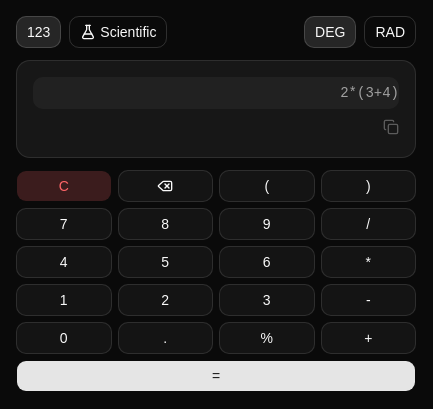
Test case: T12 calculator view › shows an error on invalid input
Type "1/0" into the field named "expression" at (216, 93), box [33,77,399,109]
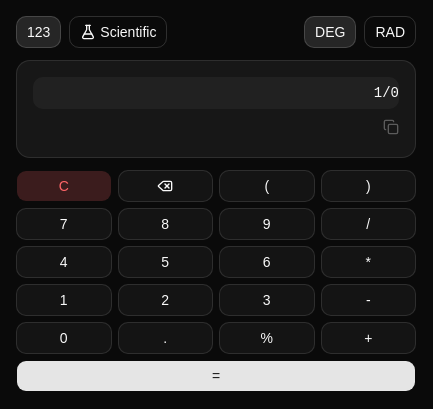
Click the button "=" at (216, 376), box [16,360,416,392]
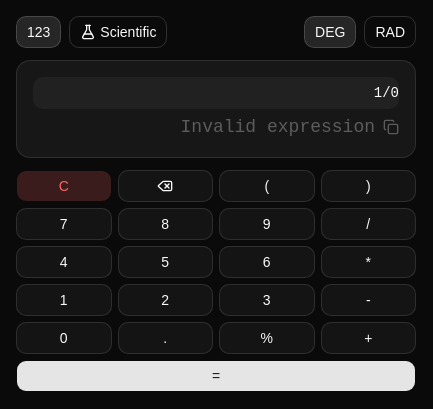
Check: the text with test id "calc-preview" shows "Invalid", box [181,117,375,137]
